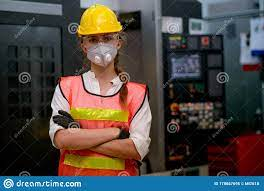helmet: (64, 7, 127, 44)
mask: (81, 43, 119, 65)
